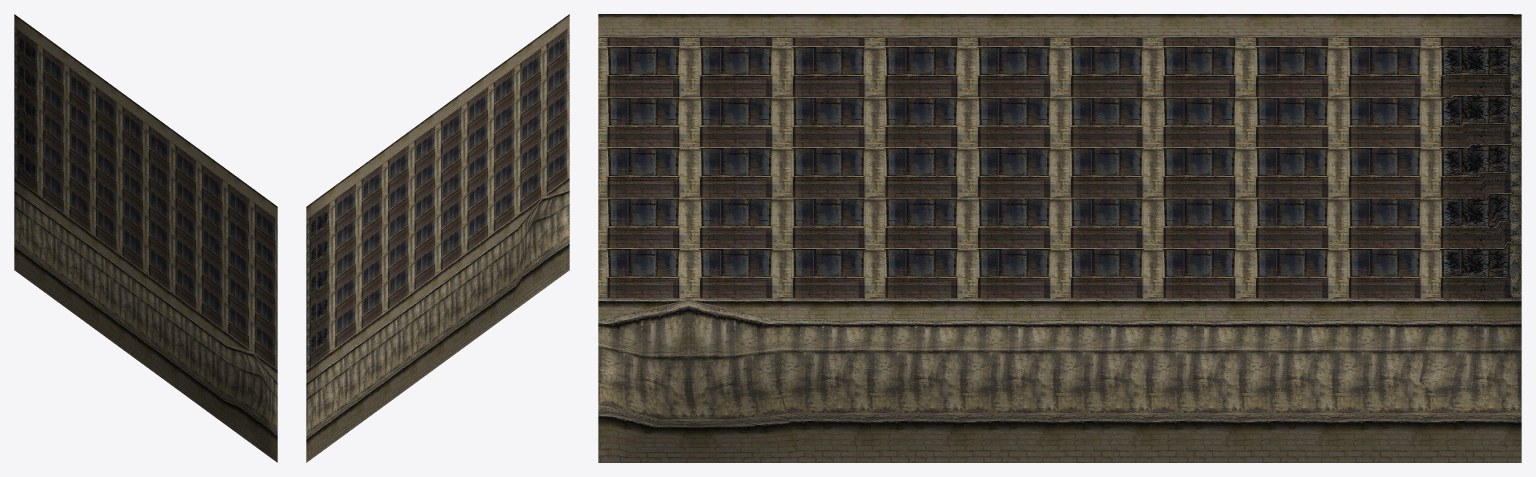
The model's file is M10_Z01_15_Tower.glb.
The picture shows the model from 3 angles, left to right: view 1: azimuth 30°, elevation 25°; view 2: azimuth 150°, elevation 25°; view 3: azimuth 270°, elevation 25°; orthographic projection. The views are drawn at different scales.
Parts seen in each view (by area): view 1: M10_Z01_15_TOWER; view 2: M10_Z01_15_TOWER; view 3: M10_Z01_15_TOWER.
Part boxes in pixels (x1,y1,x2,y2): M10_Z01_15_TOWER: (14,14,277,462); M10_Z01_15_TOWER: (306,14,569,462); M10_Z01_15_TOWER: (598,14,1521,462).
Bounding box in the file's own units: 0.902 × 22 × 41.
3 materials, 3 textured.
